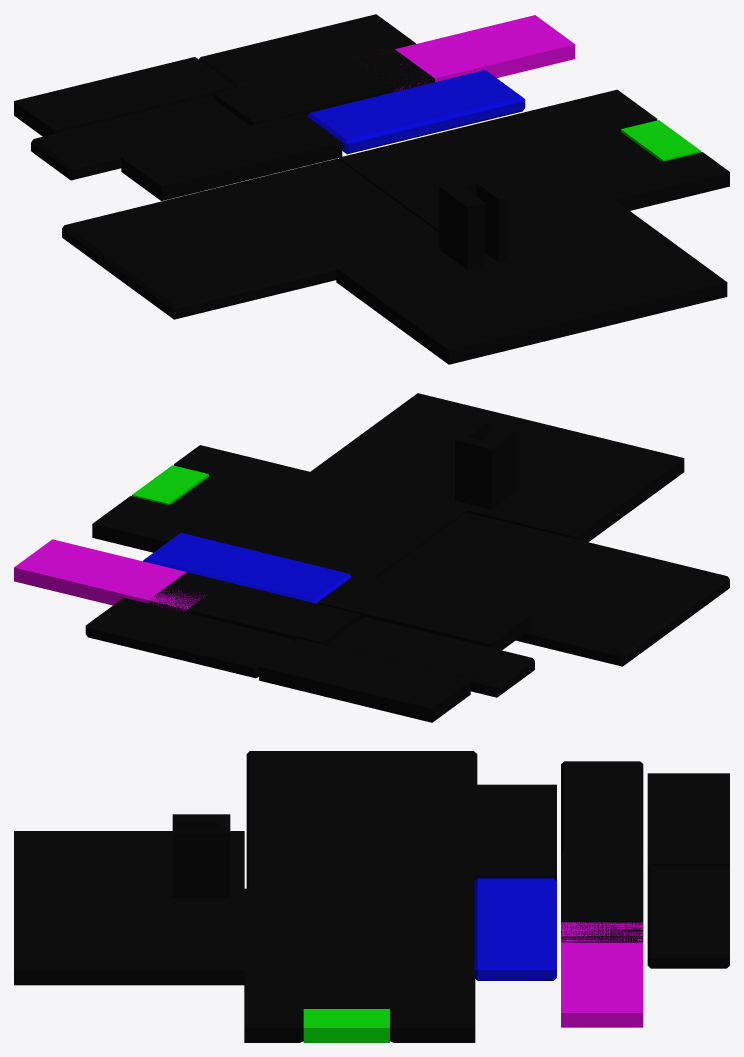
File: wallpaneltestoverlapandinsetremove.fbx
The picture shows the model from 3 angles, top to bottom: view 1: azimuth 30°, elevation 25°; view 2: azimuth 150°, elevation 25°; view 3: azimuth 270°, elevation 25°; orthographic projection. The views are drawn at different scales.
Visible parts, largest first — view 1: obj5.001; view 2: obj5.001; view 3: obj5.001.
Part boxes in pixels (<box>): obj5.001: <box>14,14,729,364</box>; obj5.001: <box>14,393,729,722</box>; obj5.001: <box>14,751,729,1042</box>.
Bounding box in the file's own units: 399 × 53.44 × 434.
